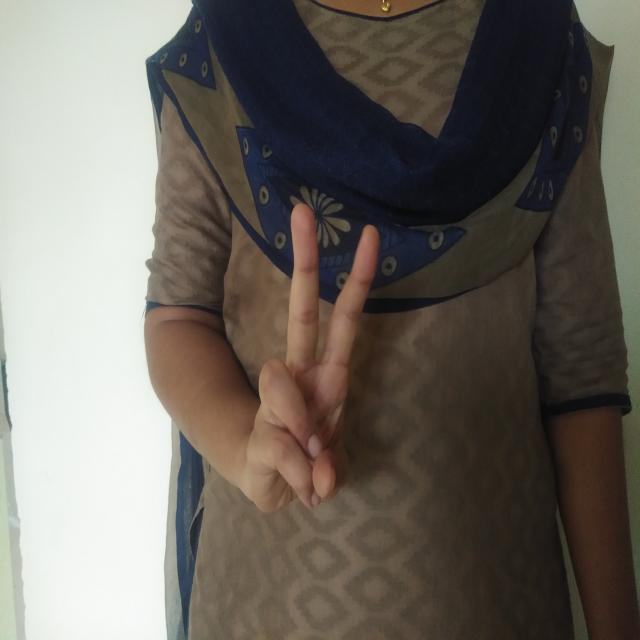V: (216, 181, 399, 539)
